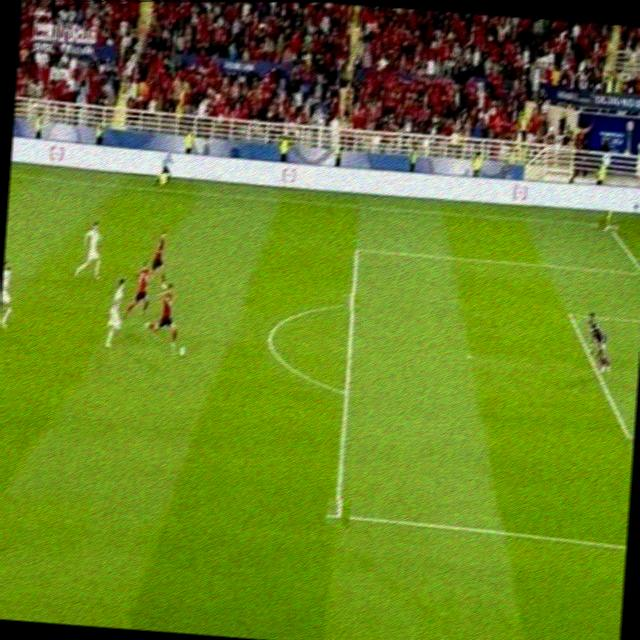bigarea_bottom_inner: (324, 497, 350, 527)
bigarea_top_inner: (348, 240, 366, 258)
bigarea_top_outter: (631, 260, 640, 277)
bottom_arc_area_intersection: (337, 380, 355, 402)
corner: (597, 215, 619, 231)
smallarea_bottom_inner: (618, 418, 634, 447)
smallarea_top_inner: (564, 303, 582, 324)
top_arc_area_intersection: (343, 292, 361, 310)
